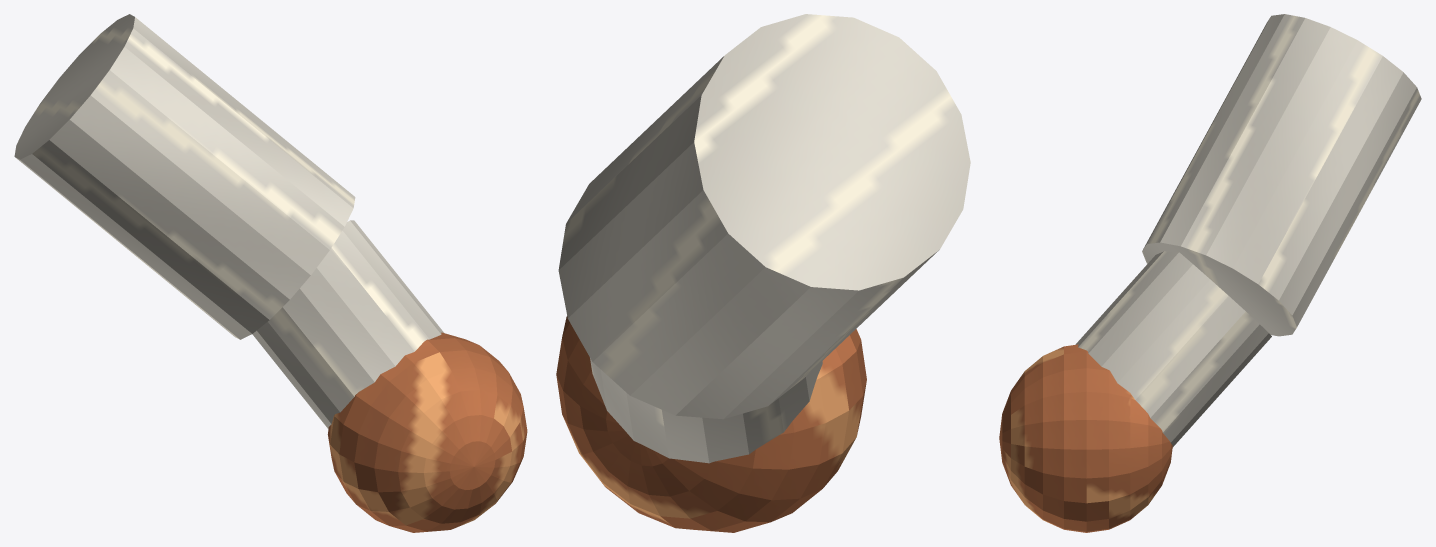
The model's file is brazo_derecho.obj.
3 renders of one model, left to right at view 1: azimuth 30°, elevation 25°; view 2: azimuth 150°, elevation 25°; view 3: azimuth 270°, elevation 25°, orthographic. The views are drawn at different scales.
Visible parts, largest first — view 1: brazo_derecho; view 2: brazo_derecho; view 3: brazo_derecho.
Boxes of the visible parts, <box> form: brazo_derecho: <box>14,14,527,532</box>; brazo_derecho: <box>556,14,970,532</box>; brazo_derecho: <box>999,14,1421,532</box>.
Bounding box in the file's own units: 0.4775 × 0.5652 × 0.5083.
Materials: 2 (2 with a texture image).
